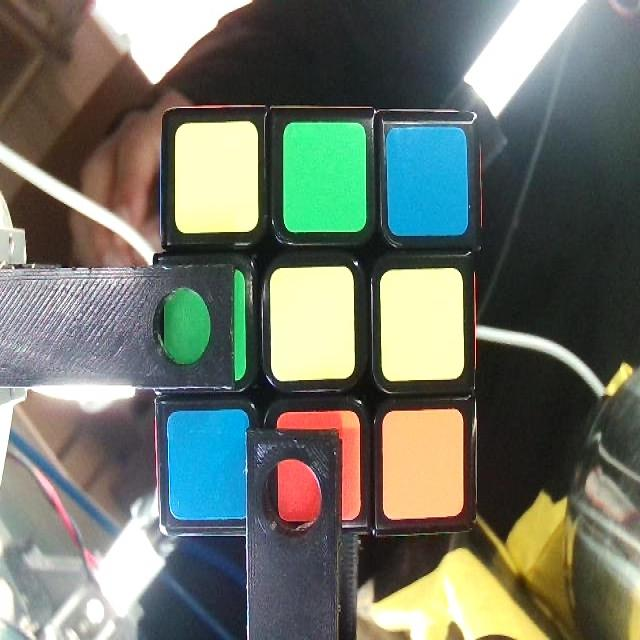b: (389, 125, 467, 235), (169, 414, 254, 513)
g: (283, 121, 366, 235), (163, 271, 245, 379)
o: (279, 408, 362, 520), (386, 414, 464, 526)
y: (382, 269, 464, 383), (174, 121, 258, 231), (274, 269, 354, 383)
